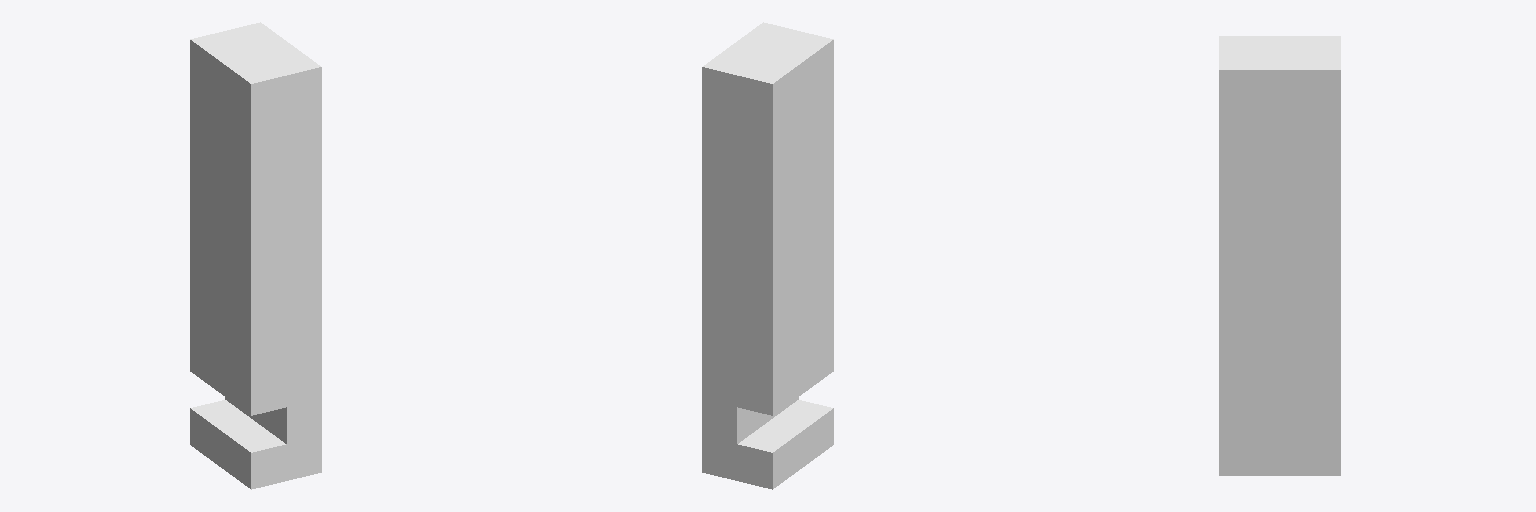
The model's file is rightarm.obj.
3 renders of one model, left to right at view 1: azimuth 30°, elevation 25°; view 2: azimuth 150°, elevation 25°; view 3: azimuth 270°, elevation 25°, orthographic.
Visible parts, largest first — view 1: Default; view 2: Default; view 3: Default.
Part boxes in pixels (x1,y1,x2,y2): Default: (190,22,321,489); Default: (702,22,833,489); Default: (1219,36,1340,475).
Size of the model in its own units: 0.2 by 1.1 by 0.3.